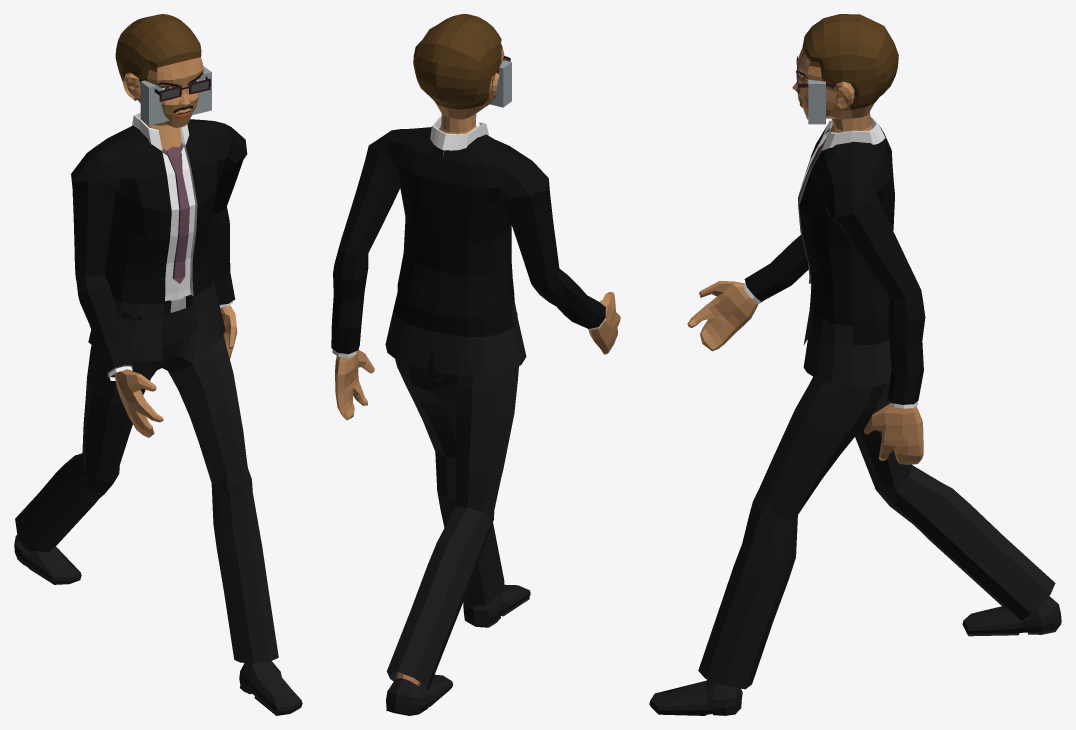
The model's file is TeacherMale_B_Walk_Mask.fbx.
3 renders of one model, left to right at view 1: azimuth 30°, elevation 25°; view 2: azimuth 150°, elevation 25°; view 3: azimuth 270°, elevation 25°, orthographic. The views are drawn at different scales.
Visible parts, largest first — view 1: TeacherMale_B_Walk_Mask; view 2: TeacherMale_B_Walk_Mask; view 3: TeacherMale_B_Walk_Mask.
Part boxes in pixels (left/top/right/bottom): TeacherMale_B_Walk_Mask: left=14, top=14, right=302, bottom=715; TeacherMale_B_Walk_Mask: left=331, top=14, right=620, bottom=715; TeacherMale_B_Walk_Mask: left=649, top=14, right=1061, bottom=715.
Size of the model in its own units: 0.2953 by 0.9178 by 0.5099.
